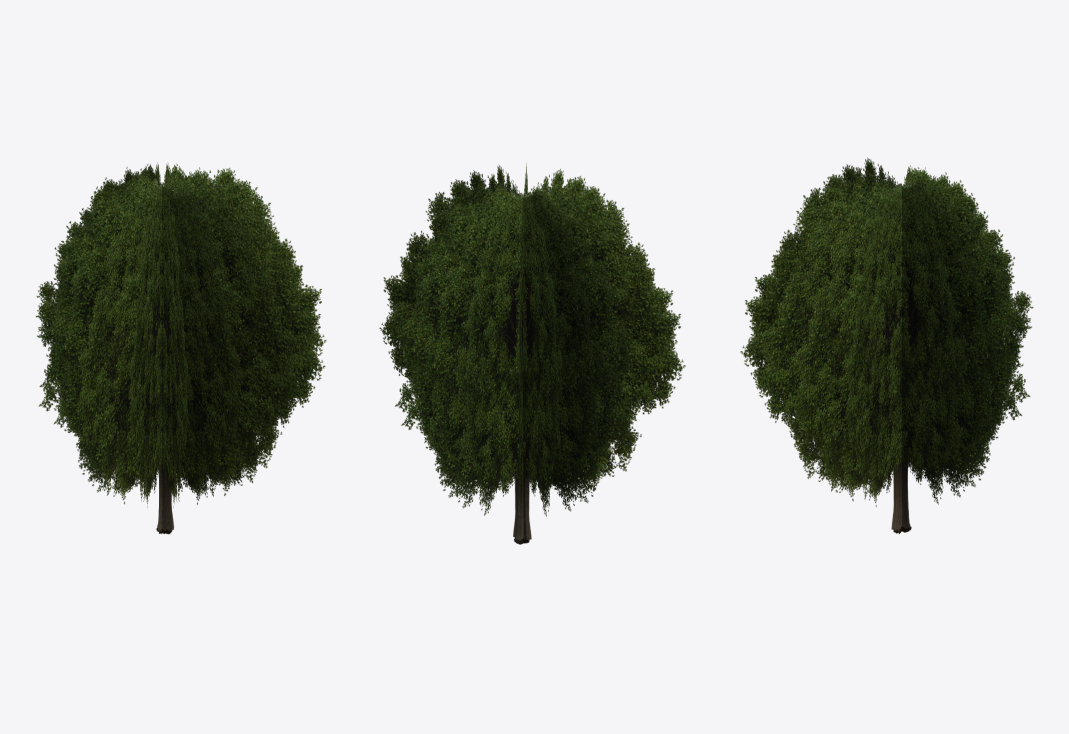
The model's file is tree.glb.
3 views of the same model, side by side, from view 1: azimuth 30°, elevation 25°; view 2: azimuth 150°, elevation 25°; view 3: azimuth 270°, elevation 25° (orthographic).
Parts seen in each view (by area): view 1: 平面.002; view 2: 平面.002; view 3: 平面.002.
Part boxes in pixels (x1,y1,x2,y2): 平面.002: (35,162,326,534); 平面.002: (379,163,685,544); 平面.002: (740,157,1033,533).
Bounding box in the file's own units: 3.76 × 7.04 × 3.7.
1 material, 1 textured.
